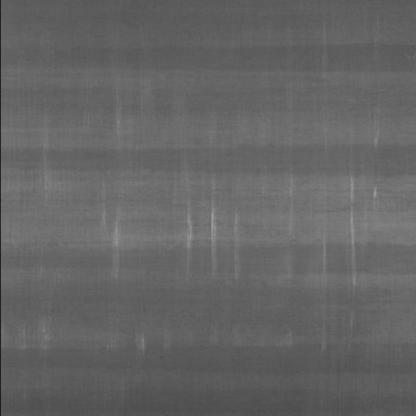waist_folding: (12, 119, 414, 370)
